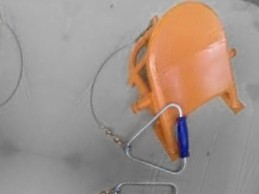chock: (105, 0, 259, 173)
